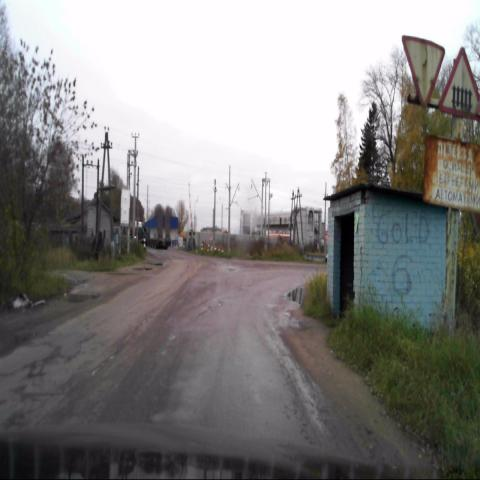1_1: (440, 47, 480, 120)
